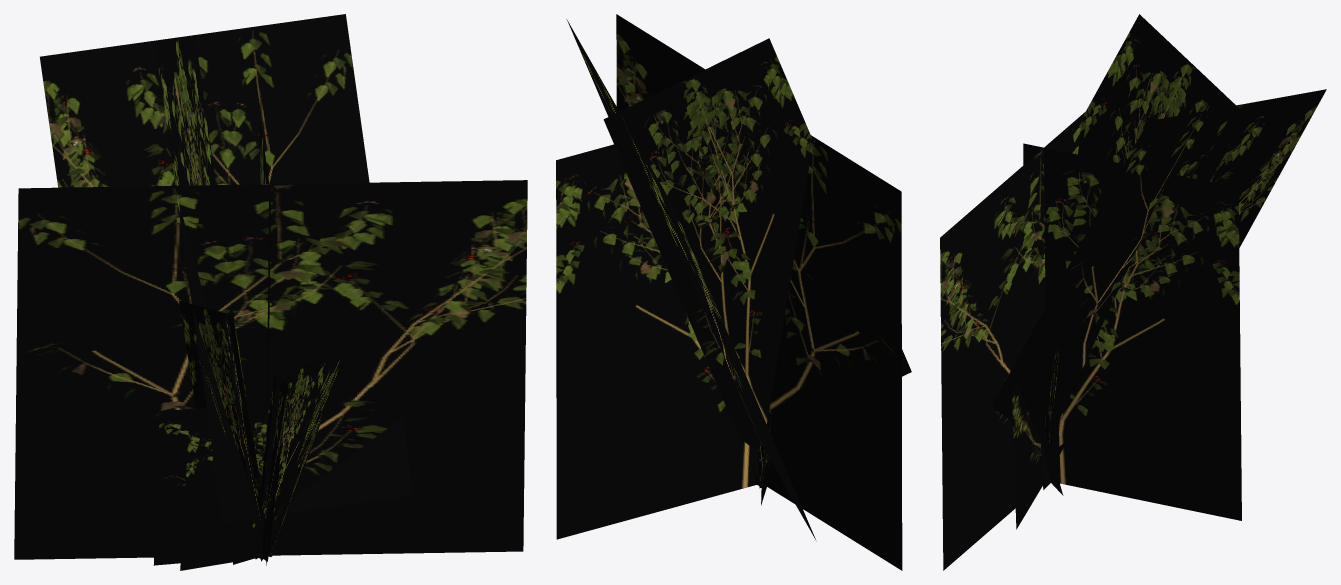
The model's file is wft_summer.glb.
3 views of the same model, side by side, from view 1: azimuth 30°, elevation 25°; view 2: azimuth 150°, elevation 25°; view 3: azimuth 270°, elevation 25° (orthographic). The views are drawn at different scales.
Visible parts, largest first — view 1: winter; view 2: winter; view 3: winter.
Boxes of the visible parts, left/top/right/bottom form: winter: left=14, top=14, right=527, bottom=570; winter: left=556, top=14, right=911, bottom=570; winter: left=940, top=14, right=1326, bottom=570.
Size of the model in its own units: 65.11 by 77.31 by 61.07.
Materials: 1 (1 with a texture image).
